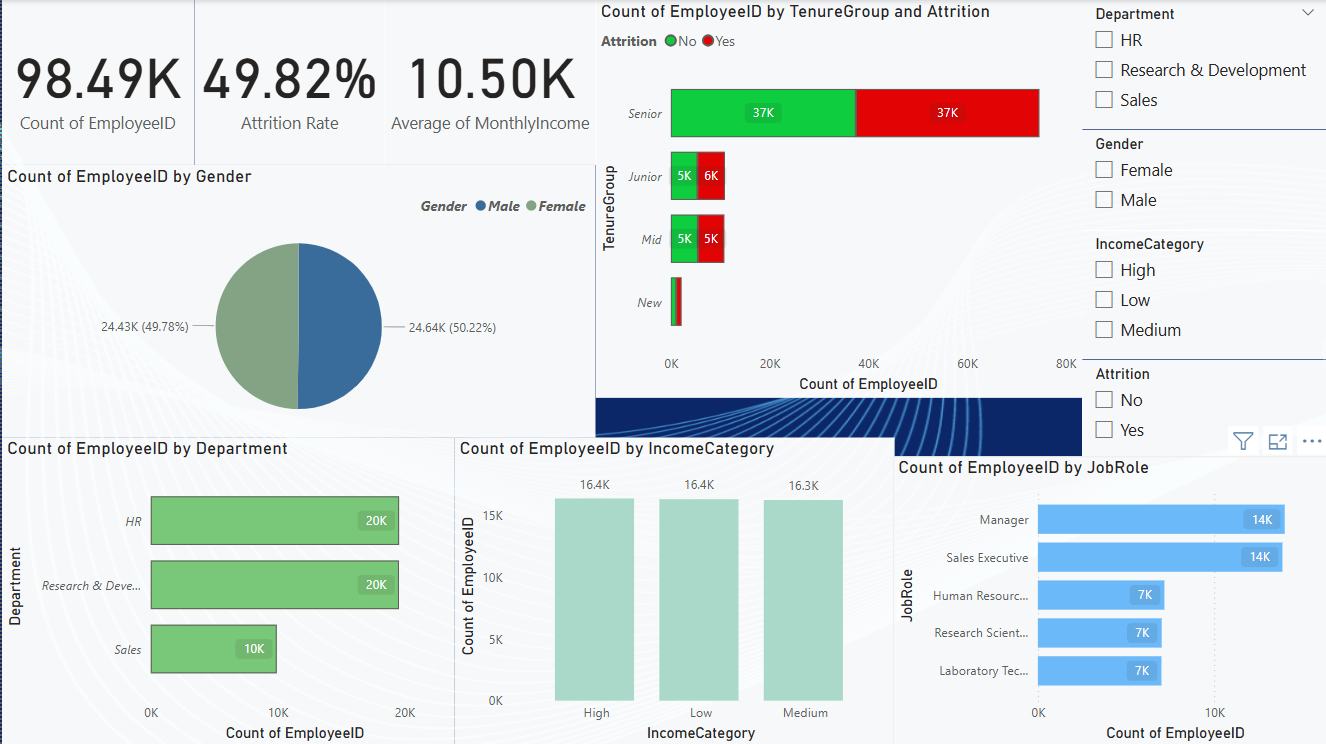

This screenshot's page, from the dashboard's own definition file:
{"tool":"powerbi","page":{"name":"Page 1","canvas":[1280,720],"ordinal":0},"visuals":[{"type":"card","fields":{"Values":["CountNonNull(employee_attrition_cleaned.EmployeeID)"]},"box":[0,0,185.2,159.2],"z":0},{"type":"card","fields":{"Values":["employee_attrition_cleaned.Attrition Rate"]},"box":[185.2,0,183.9,159.2],"z":1000},{"type":"card","fields":{"Values":["Avg(employee_attrition_cleaned.MonthlyIncome)"]},"box":[369.1,0,204.5,159.2],"z":2000},{"type":"pieChart","fields":{"Category":["employee_attrition_cleaned.Gender"],"Y":["CountNonNull(employee_attrition_cleaned.EmployeeID)"]},"box":[0,159.3,573.1,263],"z":3000},{"type":"barChart","title":"Count of EmployeeID by Department ","fields":{"Y":["CountNonNull(employee_attrition_cleaned.EmployeeID)"],"Category":["employee_attrition_cleaned.Department"]},"box":[0,422.3,436.7,298],"z":4000},{"type":"barChart","fields":{"Y":["CountNonNull(employee_attrition_cleaned.EmployeeID)"],"Category":["employee_attrition_cleaned.TenureGroup"],"Series":["employee_attrition_cleaned.Attrition"]},"box":[573.1,0,469.3,383.6],"z":5000},{"type":"clusteredColumnChart","fields":{"Y":["CountNonNull(employee_attrition_cleaned.EmployeeID)"],"Category":["employee_attrition_cleaned.IncomeCategory"]},"box":[436.7,422.3,424.7,298],"z":6000},{"type":"slicer","fields":{"Values":["employee_attrition_cleaned.Department"]},"box":[1042.9,0,237.4,124.9],"z":7000},{"type":"slicer","fields":{"Values":["employee_attrition_cleaned.Gender"]},"box":[1042.9,124.9,237.4,97.4],"z":8000},{"type":"slicer","fields":{"Values":["employee_attrition_cleaned.IncomeCategory"]},"box":[1042.9,222.3,237.4,124.9],"z":9000},{"type":"slicer","fields":{"Values":["employee_attrition_cleaned.Attrition"]},"box":[1042.9,347.2,237.4,93.3],"z":10000},{"type":"clusteredBarChart","fields":{"Category":["employee_attrition_cleaned.JobRole"],"Y":["CountNonNull(employee_attrition_cleaned.EmployeeID)"]},"box":[860.4,440.5,419.9,279.9],"z":10001}]}

Visuals, with their boxes in screenshot pixels (x1, y1, x2, y2), scaled from the page's 1280x720 canvas onto the 1326x744 screenshot:
card - CountNonNull(employee_attrition_cleaned.EmployeeID): left=0, top=0, right=192, bottom=165
card - employee_attrition_cleaned.Attrition Rate: left=192, top=0, right=382, bottom=165
card - Avg(employee_attrition_cleaned.MonthlyIncome): left=382, top=0, right=594, bottom=165
pieChart - employee_attrition_cleaned.Gender x CountNonNull(employee_attrition_cleaned.EmployeeID): left=0, top=165, right=594, bottom=436
"Count of EmployeeID by Department " barChart: left=0, top=436, right=452, bottom=743
barChart - CountNonNull(employee_attrition_cleaned.EmployeeID) x employee_attrition_cleaned.TenureGroup: left=594, top=0, right=1080, bottom=396
clusteredColumnChart - CountNonNull(employee_attrition_cleaned.EmployeeID) x employee_attrition_cleaned.IncomeCategory: left=452, top=436, right=892, bottom=743
slicer - employee_attrition_cleaned.Department: left=1080, top=0, right=1325, bottom=129
slicer - employee_attrition_cleaned.Gender: left=1080, top=129, right=1325, bottom=230
slicer - employee_attrition_cleaned.IncomeCategory: left=1080, top=230, right=1325, bottom=359
slicer - employee_attrition_cleaned.Attrition: left=1080, top=359, right=1325, bottom=455
clusteredBarChart - employee_attrition_cleaned.JobRole x CountNonNull(employee_attrition_cleaned.EmployeeID): left=891, top=455, right=1325, bottom=743
